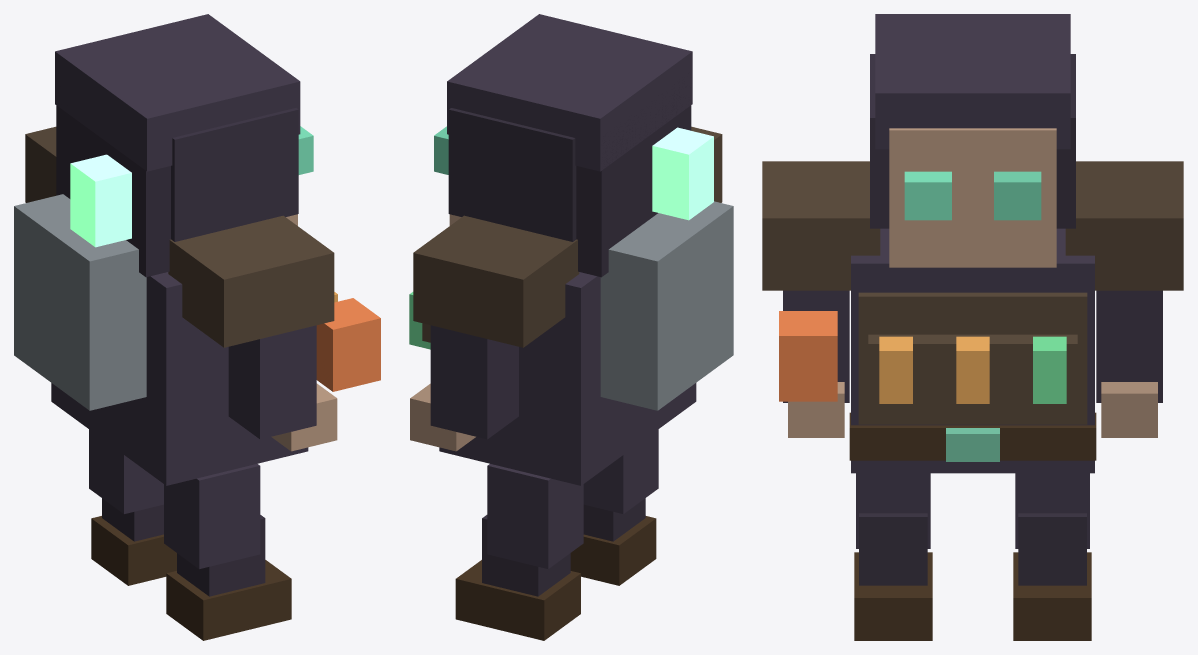
Rendered from bandit-alchemist.glb.
3 renders of one model, left to right at view 1: azimuth 30°, elevation 25°; view 2: azimuth 150°, elevation 25°; view 3: azimuth 270°, elevation 25°, orthographic. The views are drawn at different scales.
Visible parts, largest first — view 1: Hood, Boots, Backpack, Torso, Shoulders, Arms, Flasks, Core, Hands, Goggles; view 2: Hood, Boots, Backpack, Torso, Shoulders, Arms, Core, Hands, Goggles, Flasks; view 3: Shoulders, Hood, Boots, Armor, Head, Torso, Flasks, Arms, Belt, Hands, Goggles, Trim.
Part boxes in pixels (bbox=[...]): Hood: bbox=[55, 14, 300, 277]; Boots: bbox=[89, 429, 291, 640]; Backpack: bbox=[14, 194, 146, 410]; Torso: bbox=[51, 272, 308, 485]; Shoulders: bbox=[25, 126, 334, 347]; Arms: bbox=[228, 325, 316, 439]; Flasks: bbox=[316, 292, 380, 391]; Core: bbox=[70, 154, 131, 247]; Hands: bbox=[271, 383, 337, 451]; Goggles: bbox=[298, 126, 313, 174]; Hood: bbox=[447, 14, 692, 277]; Boots: bbox=[455, 429, 658, 640]; Backpack: bbox=[600, 201, 733, 410]; Torso: bbox=[439, 272, 696, 485]; Shoulders: bbox=[413, 126, 722, 347]; Arms: bbox=[430, 325, 518, 439]; Core: bbox=[652, 127, 713, 220]; Hands: bbox=[410, 383, 475, 451]; Goggles: bbox=[434, 126, 448, 174]; Flasks: bbox=[409, 292, 430, 349]; Shoulders: bbox=[762, 161, 1183, 290]; Hood: bbox=[870, 14, 1075, 228]; Boots: bbox=[854, 473, 1091, 640]; Armor: bbox=[849, 292, 1096, 460]; Head: bbox=[889, 128, 1056, 267]; Torso: bbox=[851, 228, 1094, 473]; Flasks: bbox=[779, 311, 1066, 403]; Arms: bbox=[783, 290, 1162, 402]; Belt: bbox=[868, 334, 1077, 381]; Hands: bbox=[788, 382, 1157, 437]; Goggles: bbox=[904, 171, 1041, 220]; Trim: bbox=[946, 428, 999, 461].
Size of the model in its own units: 2.12 by 4.4 by 3.02.
